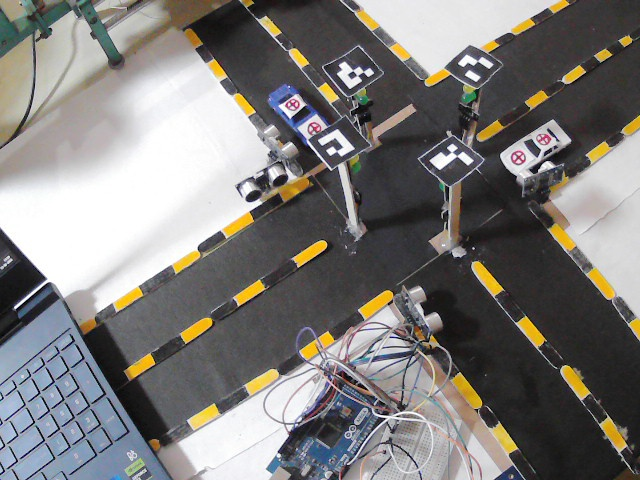aruco_marker: (322, 44, 382, 98), (419, 138, 484, 187), (309, 116, 369, 167), (445, 44, 504, 89)
emergency_vehicle: (267, 83, 331, 146), (500, 119, 573, 174)
traffic_light: (458, 84, 479, 132), (351, 86, 374, 125), (436, 182, 449, 219), (350, 151, 361, 177)
uno_breadboard: (267, 363, 391, 480), (366, 401, 463, 480), (400, 282, 445, 341), (234, 158, 290, 202), (518, 161, 567, 203), (258, 124, 301, 166), (484, 465, 526, 480)
